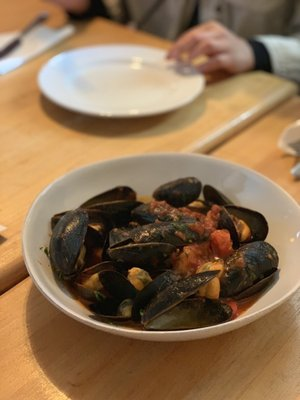sandwich: (0, 12, 49, 56)
sushi: (21, 162, 298, 343)
